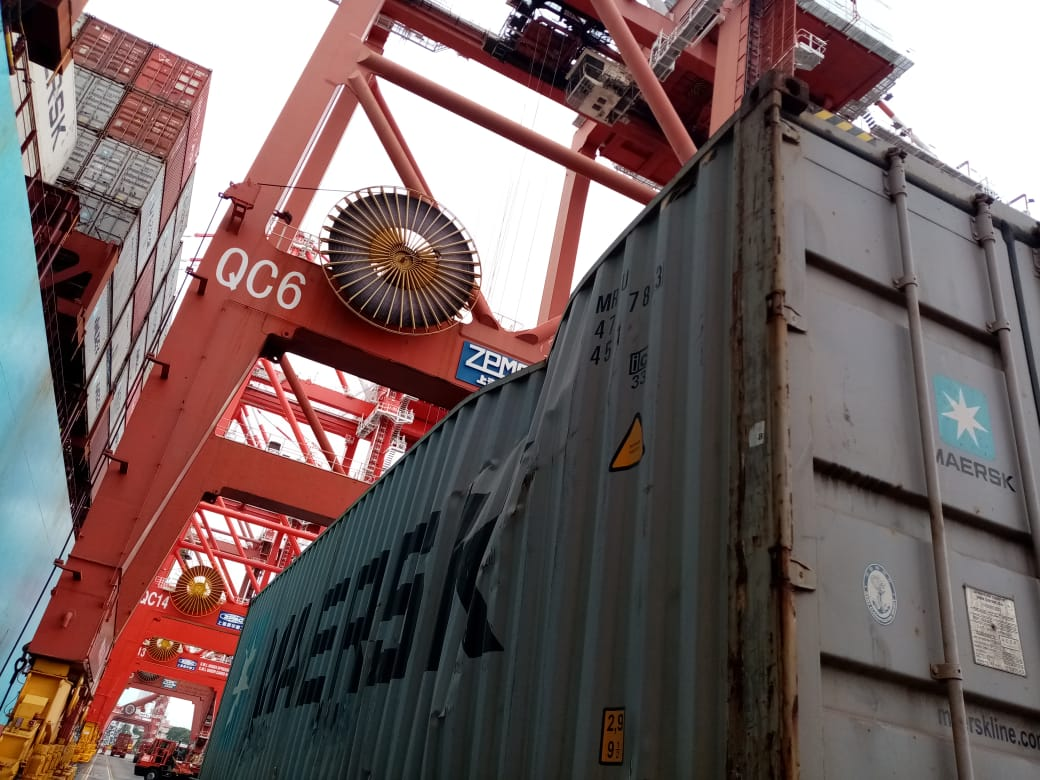dented: (441, 269, 629, 556)
